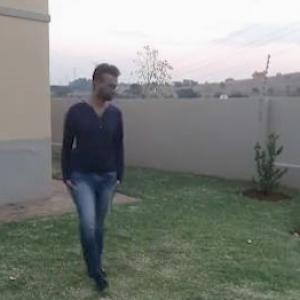follow: (60, 53, 144, 299)
